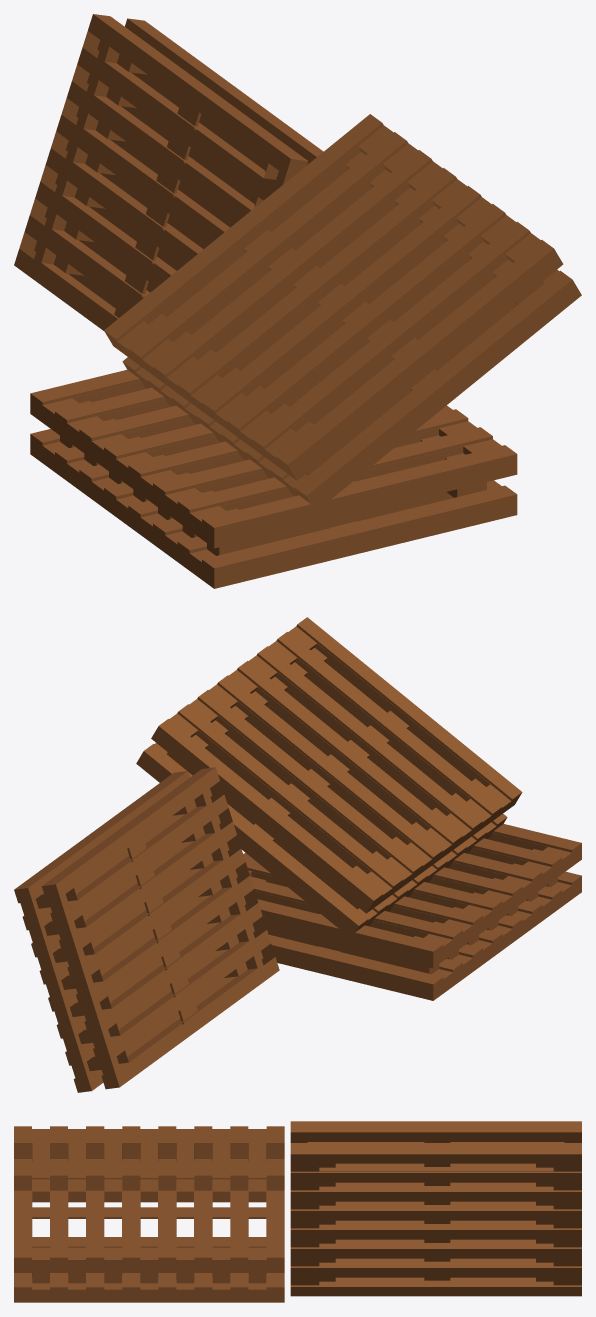
File: kayu tempat box.fbx
3 views of the same model, one above another, from view 1: azimuth 30°, elevation 25°; view 2: azimuth 150°, elevation 25°; view 3: azimuth 270°, elevation 25° (orthographic). The views are drawn at different scales.
Parts seen in each view (by area): view 1: Cube.233, Cube.232, Cube.204; view 2: Cube.233, Cube.204, Cube.232; view 3: Cube.204, Cube.232, Cube.233.
Boxes of the visible parts, left/top/right/bottom form: Cube.233: left=104, top=114, right=581, bottom=504; Cube.232: left=30, top=370, right=517, bottom=588; Cube.204: left=14, top=14, right=323, bottom=331; Cube.233: left=136, top=617, right=522, bottom=932; Cube.204: left=14, top=767, right=279, bottom=1092; Cube.232: left=243, top=824, right=581, bottom=1000; Cube.204: left=290, top=1121, right=581, bottom=1296; Cube.232: left=14, top=1187, right=284, bottom=1302; Cube.233: left=14, top=1126, right=284, bottom=1191.
Bounding box in the file's own units: 260 × 190 × 474.
